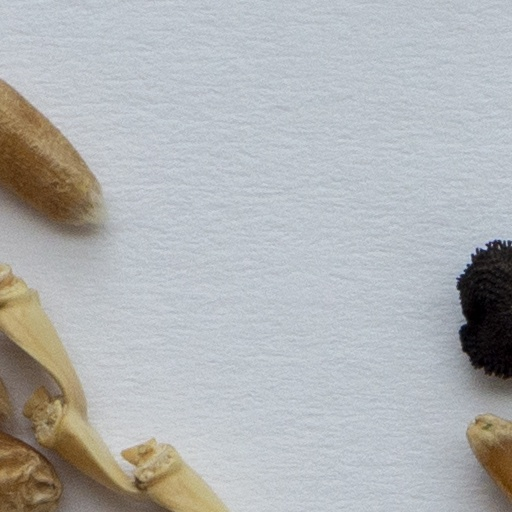Peel-poly: (0, 265, 229, 511)
